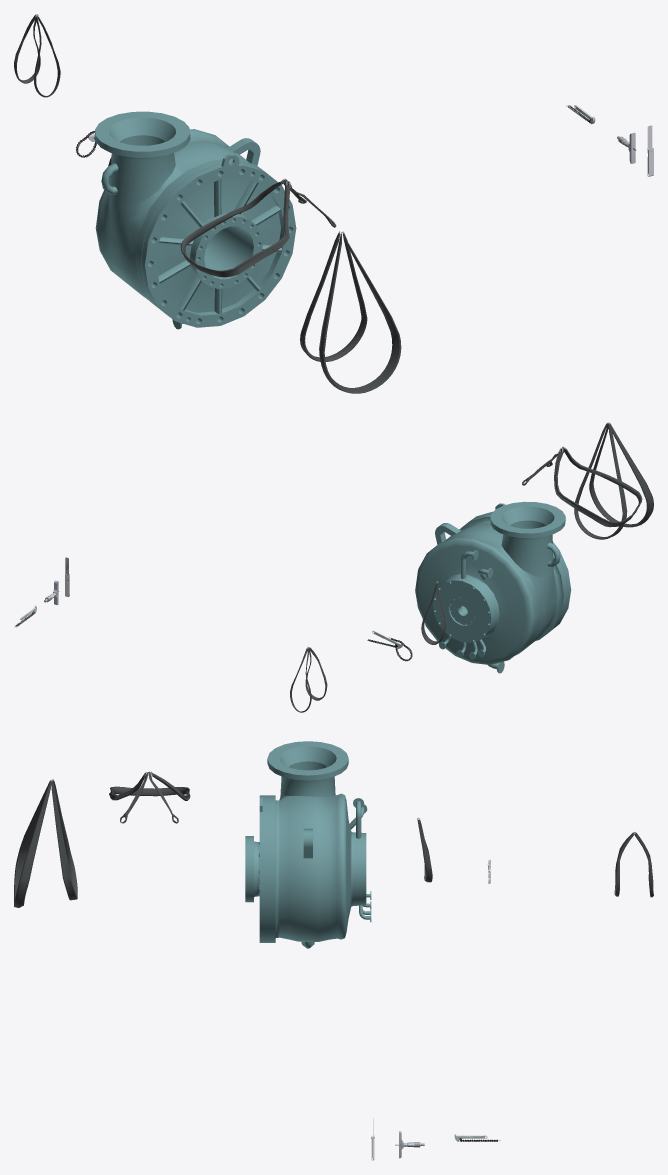
File: new_asset.fbx
3 views of the same model, one above another, from view 1: azimuth 30°, elevation 25°; view 2: azimuth 150°, elevation 25°; view 3: azimuth 270°, elevation 25° (orthographic). The views are drawn at different scales.
Visible parts, largest first — view 1: Inlet_casing, blower, rope_1, rope_igv_1, rope_2; view 2: blower, rope_igv_1, rope_1, rope_2; view 3: blower, Inlet_casing, rope_1, rope_2, rope_igv_1.
Boxes of the visible parts, x1,y1,x2,y2 form: Inlet_casing: [141, 154, 296, 327]; blower: [95, 111, 285, 329]; rope_1: [319, 233, 401, 393]; rope_igv_1: [180, 181, 290, 277]; rope_2: [300, 233, 367, 361]; blower: [415, 501, 567, 673]; rope_igv_1: [554, 448, 642, 527]; rope_1: [589, 423, 653, 527]; rope_2: [574, 423, 627, 539]; blower: [266, 741, 371, 948]; Inlet_casing: [245, 795, 266, 942]; rope_1: [14, 780, 51, 907]; rope_2: [51, 780, 77, 900]; rope_igv_1: [109, 773, 190, 800].
Size of the model in its own units: 436 by 151 by 481.
8 materials, 3 textured.
